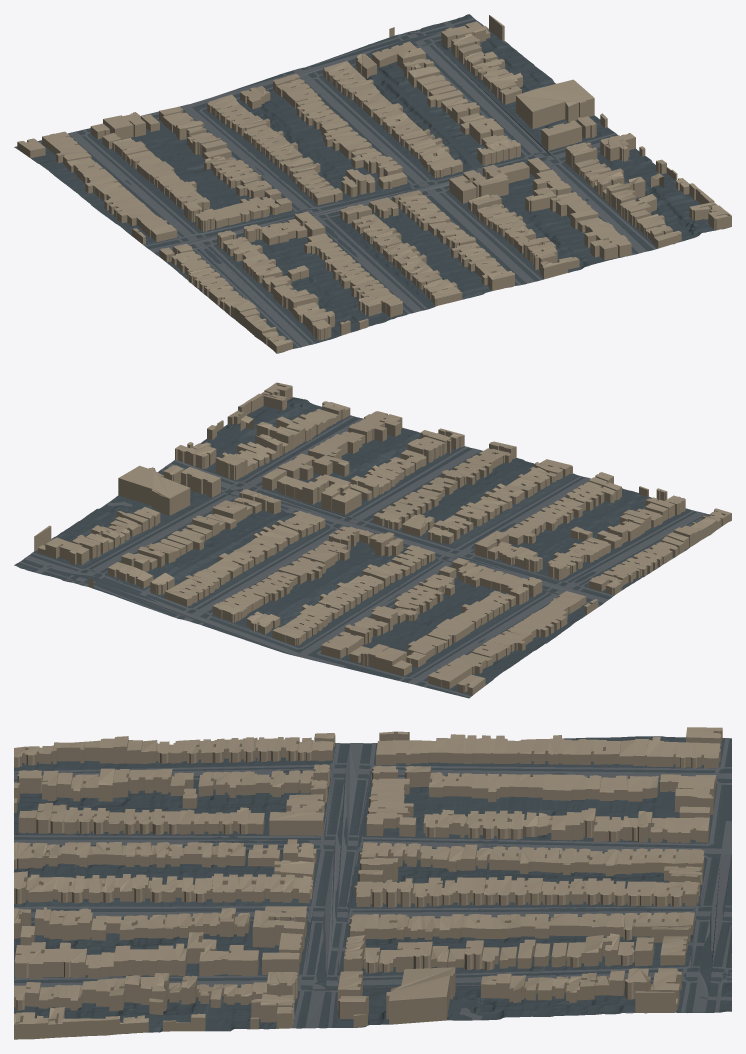
The model's file is epsg26910-1421-10883.lod0.glb.
3 views of the same model, one above another, from view 1: azimuth 30°, elevation 25°; view 2: azimuth 150°, elevation 25°; view 3: azimuth 270°, elevation 25° (orthographic). The views are drawn at different scales.
Parts seen in each view (by area): view 1: epsg26910-1421-10883-lod0; view 2: epsg26910-1421-10883-lod0; view 3: epsg26910-1421-10883-lod0.
Part boxes in pixels (x1,y1,x2,y2): epsg26910-1421-10883-lod0: [14, 14, 731, 353]; epsg26910-1421-10883-lod0: [14, 382, 731, 698]; epsg26910-1421-10883-lod0: [14, 727, 731, 1039].
Bounding box in the file's own units: 384 × 40.82 × 384.
